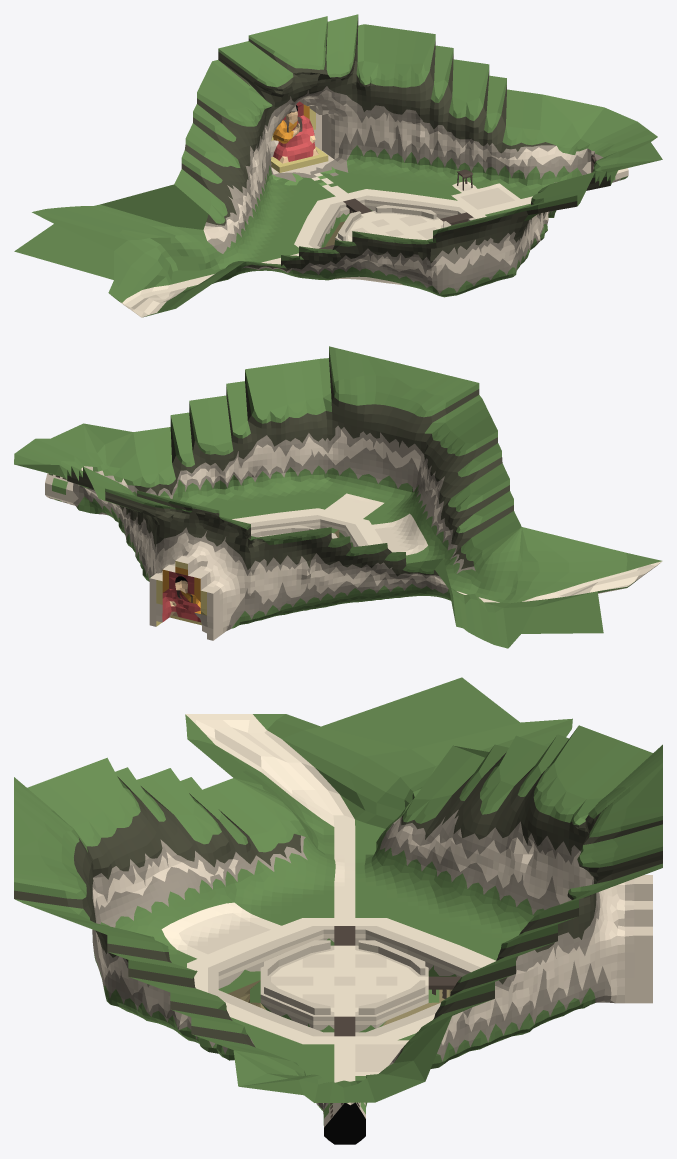
Rendered from Jiangxi Mining Village 1.fbx.
3 views of the same model, one above another, from view 1: azimuth 30°, elevation 25°; view 2: azimuth 150°, elevation 25°; view 3: azimuth 270°, elevation 25° (orthographic). The views are drawn at different scales.
Parts seen in each view (by area): view 1: Mining Village.020; view 2: Mining Village.020; view 3: Mining Village.020.
Part boxes in pixels (left/top/right/bottom): Mining Village.020: left=14, top=14, right=662, bottom=317; Mining Village.020: left=14, top=346, right=662, bottom=648; Mining Village.020: left=14, top=677, right=662, bottom=1144.
Size of the model in its own units: 13745 by 3241 by 8684.
